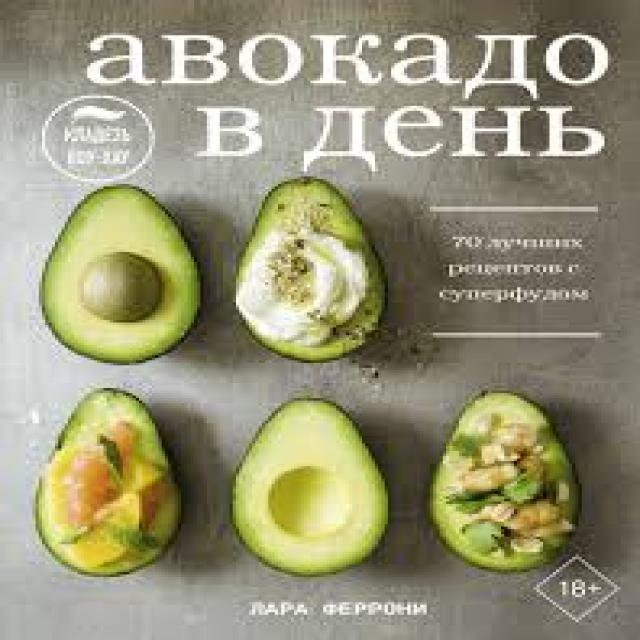avocado: (243, 167, 434, 374), (217, 383, 414, 571), (33, 169, 207, 373), (17, 376, 188, 580), (431, 397, 600, 571)
